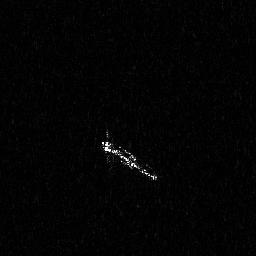ship: (97, 127, 160, 184)
